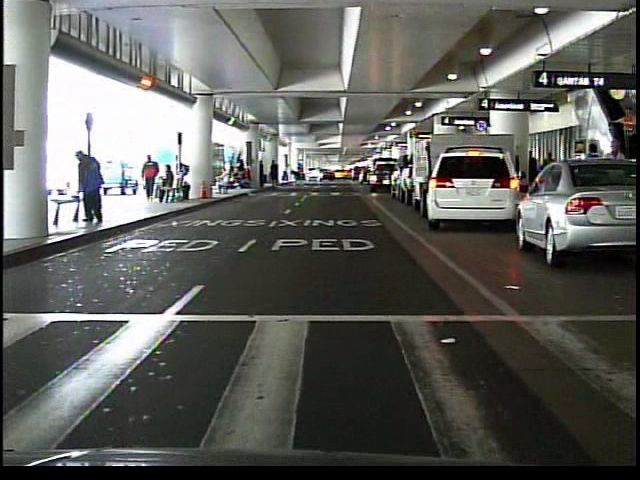person: (72, 149, 107, 225), (612, 103, 639, 149), (216, 168, 233, 203), (289, 163, 303, 192)
